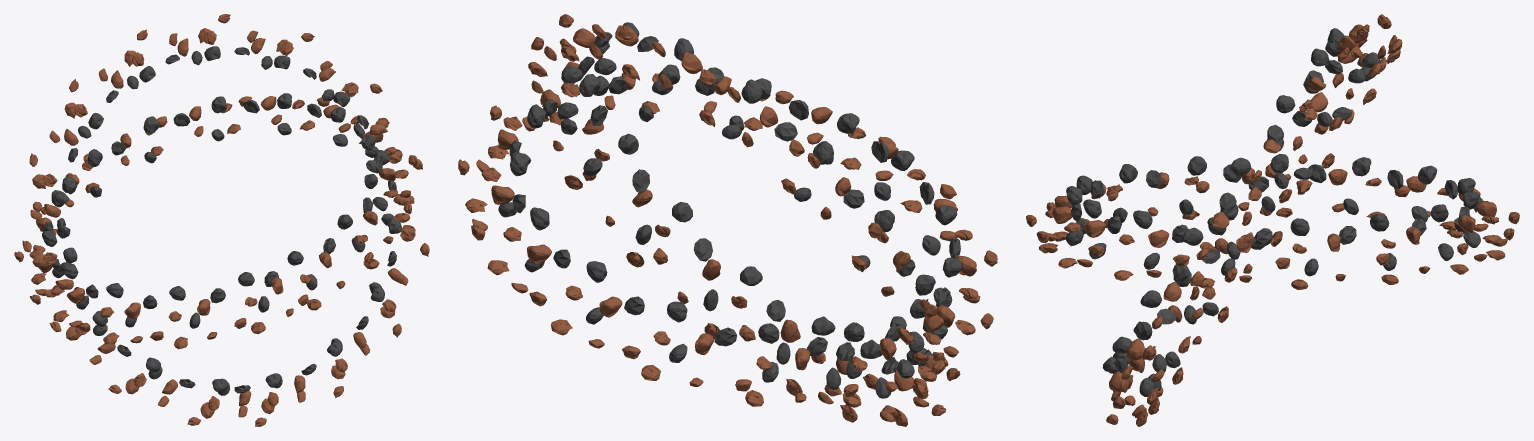
The model's file is AsteroidCircleDual.fbx.
3 views of the same model, side by side, from view 1: azimuth 30°, elevation 25°; view 2: azimuth 150°, elevation 25°; view 3: azimuth 270°, elevation 25° (orthographic). The views are drawn at different scales.
Parts seen in each view (by area): view 1: AsteroidCircleDual; view 2: AsteroidCircleDual; view 3: AsteroidCircleDual.
Boxes of the visible parts, <box> form: AsteroidCircleDual: <box>14,14,429,426</box>; AsteroidCircleDual: <box>458,14,997,426</box>; AsteroidCircleDual: <box>1026,14,1519,426</box>.
Size of the model in its own units: 44.59 by 40.29 by 45.89.
